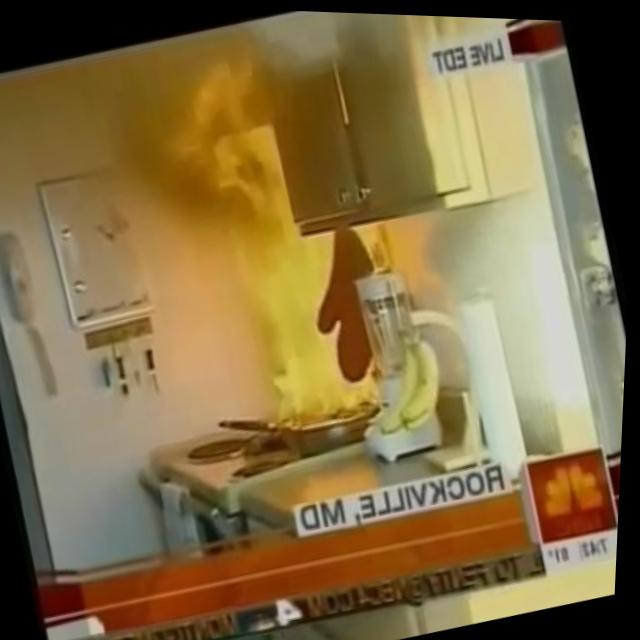fire: (150, 36, 414, 448)
